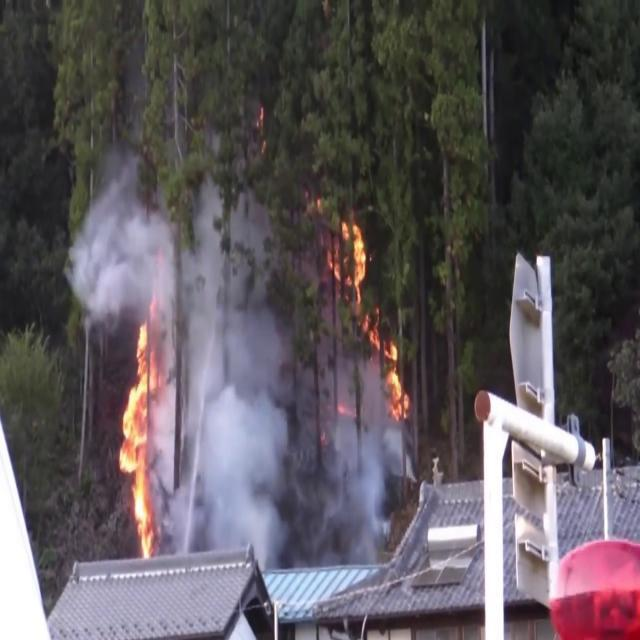Fire: (115, 321, 161, 559), (338, 210, 374, 314), (381, 325, 411, 425)
Smoke: (160, 182, 299, 588), (306, 343, 405, 567), (67, 145, 178, 339)
